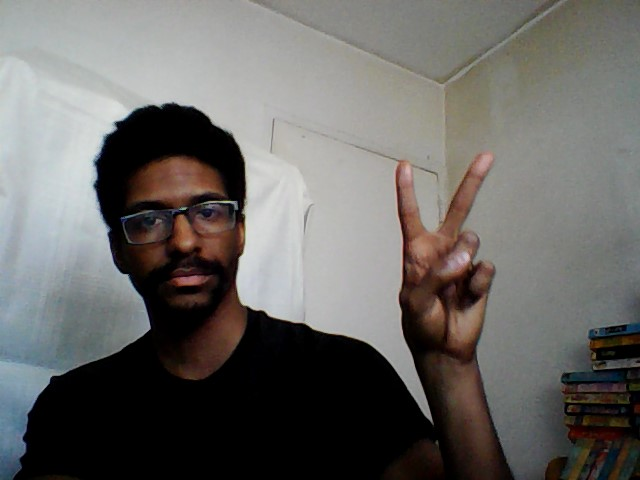v: (392, 146, 501, 361)
